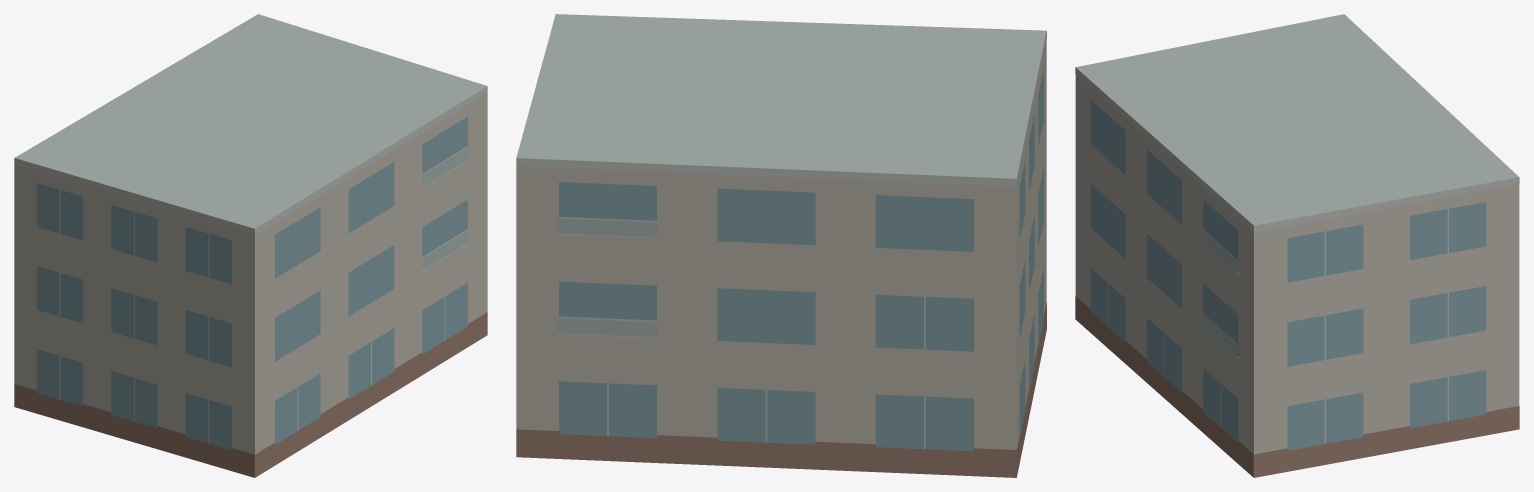
The model's file is survey-upis-32746323.glb.
3 renders of one model, left to right at view 1: azimuth 30°, elevation 25°; view 2: azimuth 150°, elevation 25°; view 3: azimuth 270°, elevation 25°, orthographic. The views are drawn at different scales.
Parts seen in each view (by area): view 1: survey-upis-32746323.tmp; view 2: survey-upis-32746323.tmp; view 3: survey-upis-32746323.tmp.
Boxes of the visible parts, x1,y1,x2,y2 form: survey-upis-32746323.tmp: (14,14,487,477); survey-upis-32746323.tmp: (516,14,1046,477); survey-upis-32746323.tmp: (1075,14,1519,477).
Bounding box in the file's own units: 16.49 × 9.15 × 14.61.
